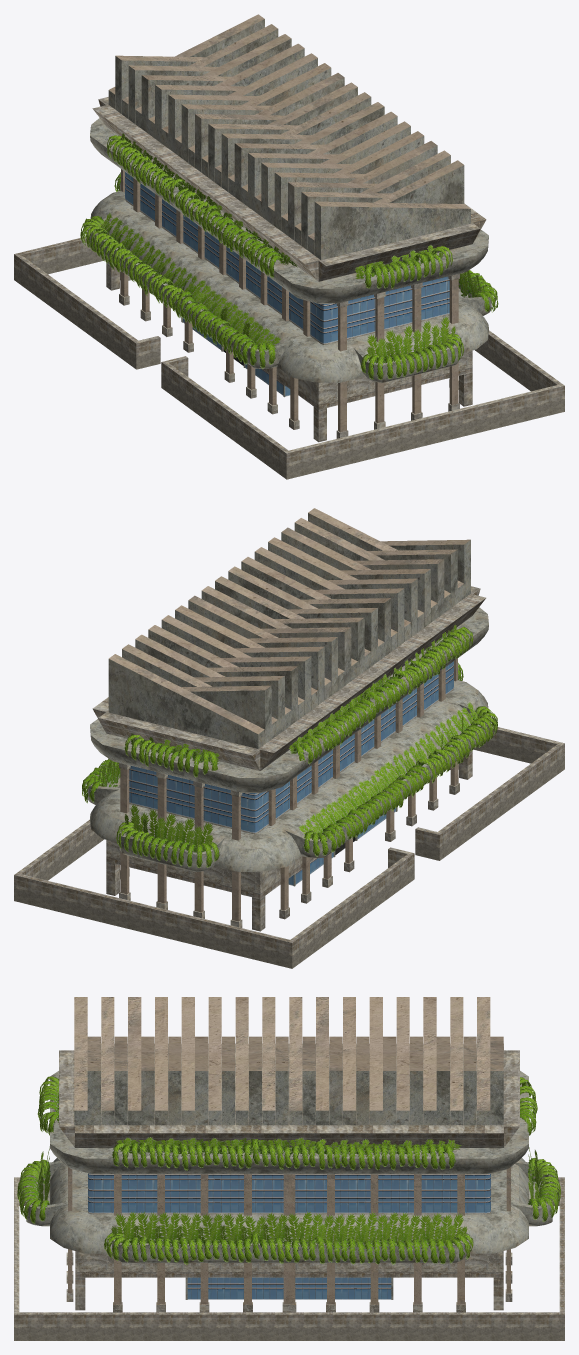
Rendered from archives.FBX.
3 views of the same model, one above another, from view 1: azimuth 30°, elevation 25°; view 2: azimuth 150°, elevation 25°; view 3: azimuth 270°, elevation 25° (orthographic).
Parts seen in each view (by area): view 1: archives, Object001, Object004, Object003; view 2: archives, Object001, Object004; view 3: archives, Object001, Object003, Object004.
Boxes of the visible parts, left/top/right/bottom form: archives: left=14, top=14, right=564, bottom=479; Object001: left=80, top=172, right=498, bottom=379; Object004: left=107, top=133, right=297, bottom=278; Object003: left=355, top=245, right=452, bottom=288; archives: left=14, top=508, right=564, bottom=968; Object001: left=82, top=663, right=497, bottom=867; Object004: left=124, top=625, right=473, bottom=777; archives: left=14, top=997, right=564, bottom=1340; Object001: left=17, top=1146, right=560, bottom=1264; Object003: left=37, top=1076, right=461, bottom=1170; Object004: left=520, top=1077, right=537, bottom=1135.
Size of the model in its own units: 455 by 369 by 773.
